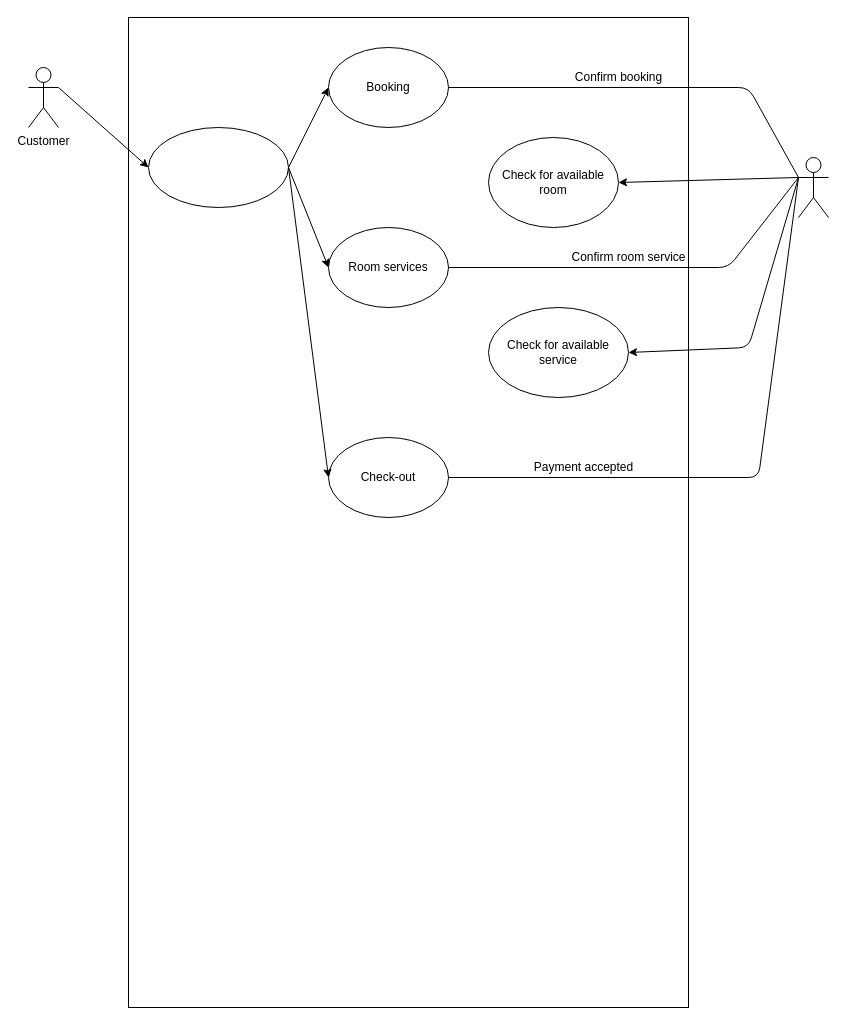
This 857x1025 diagram has some shape labels left out. Each missing label, with the box of its shape:
Order services: (148, 126, 288, 208)
Reception: (798, 156, 828, 218)
